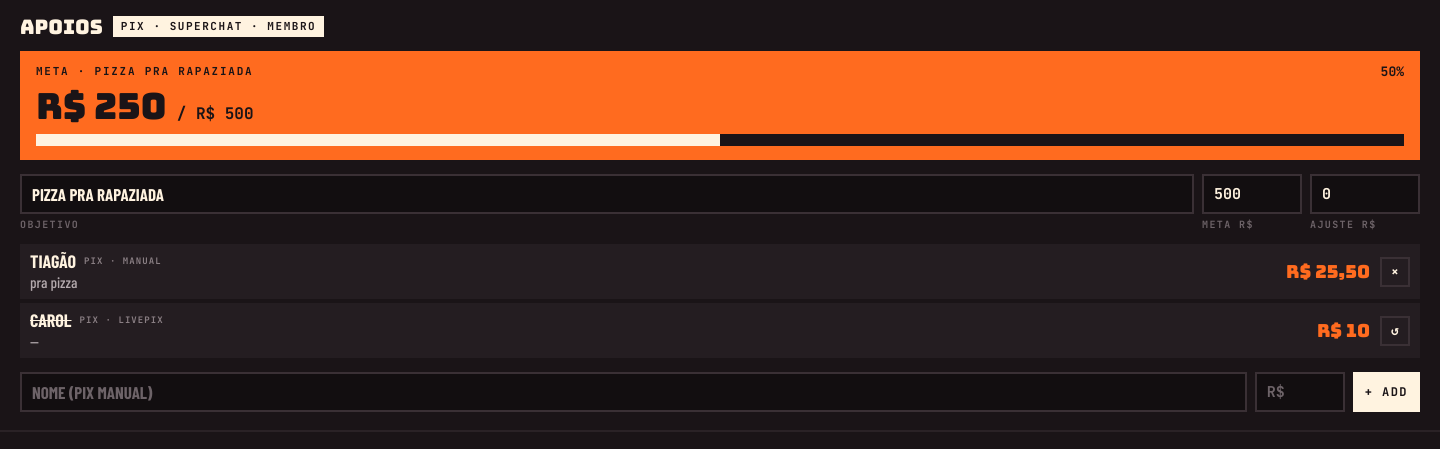
Test: ColunaPix › apagar ou zerar a META não grava; ao sair do campo volta o último valor válido
Replace the text in the field named "META R$" with "0": (1252, 194) [1202,174,1302,214]
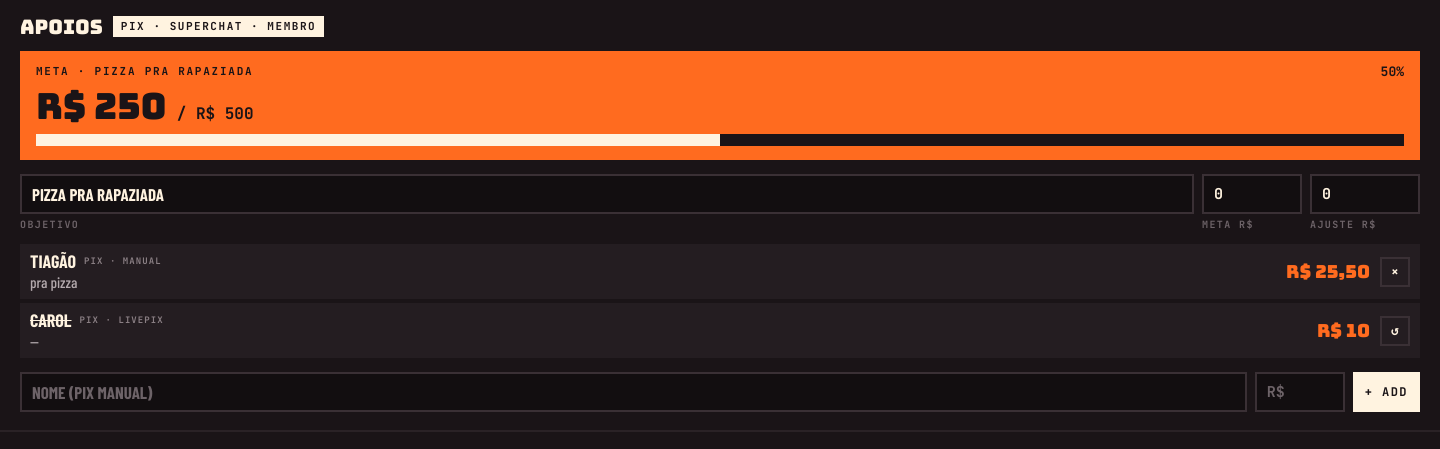
Replace the text in the field named "META R$" with "abc": (1252, 194) [1202,174,1302,214]
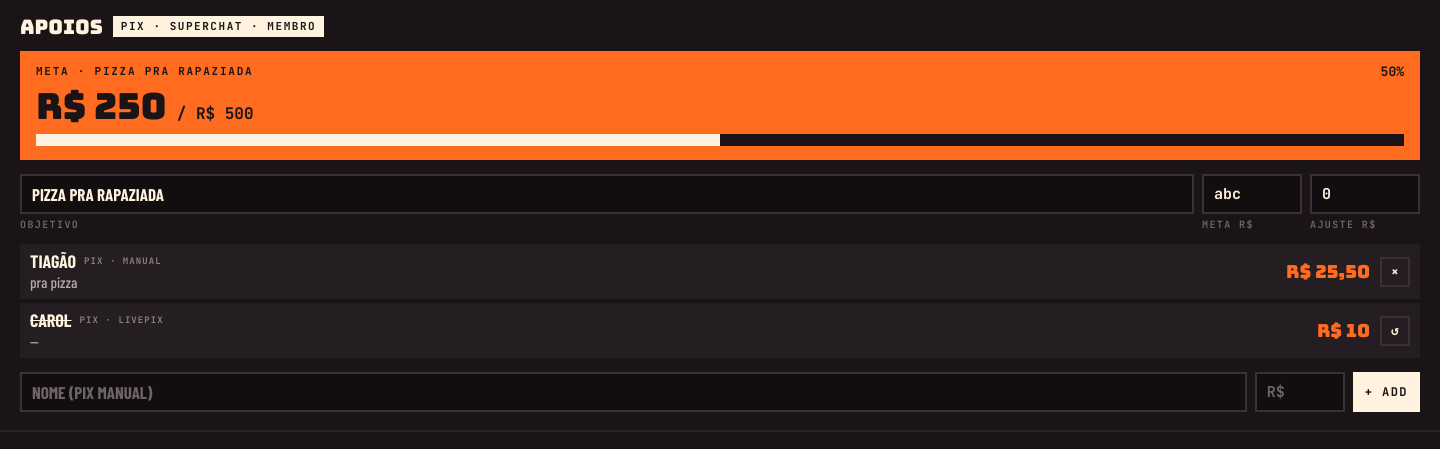
Replace the text in the field named "META R$" with "750,5": (1252, 194) [1202,174,1302,214]
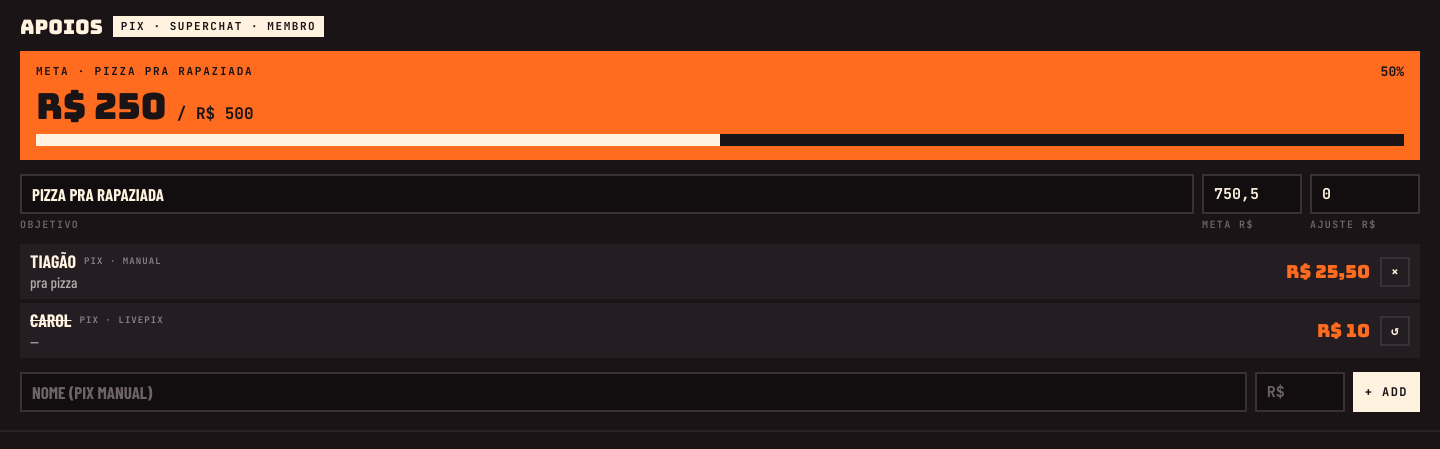
Clear the field named "META R$": (1252, 194) [1202,174,1302,214]
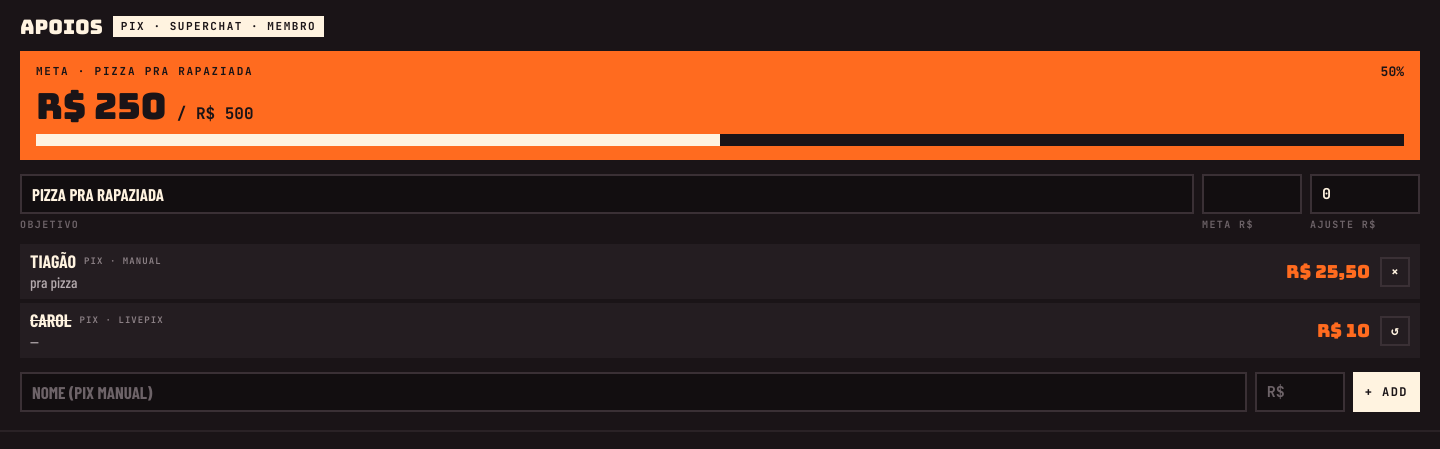
Leave the field named "META R$", box [1202,174,1302,214]
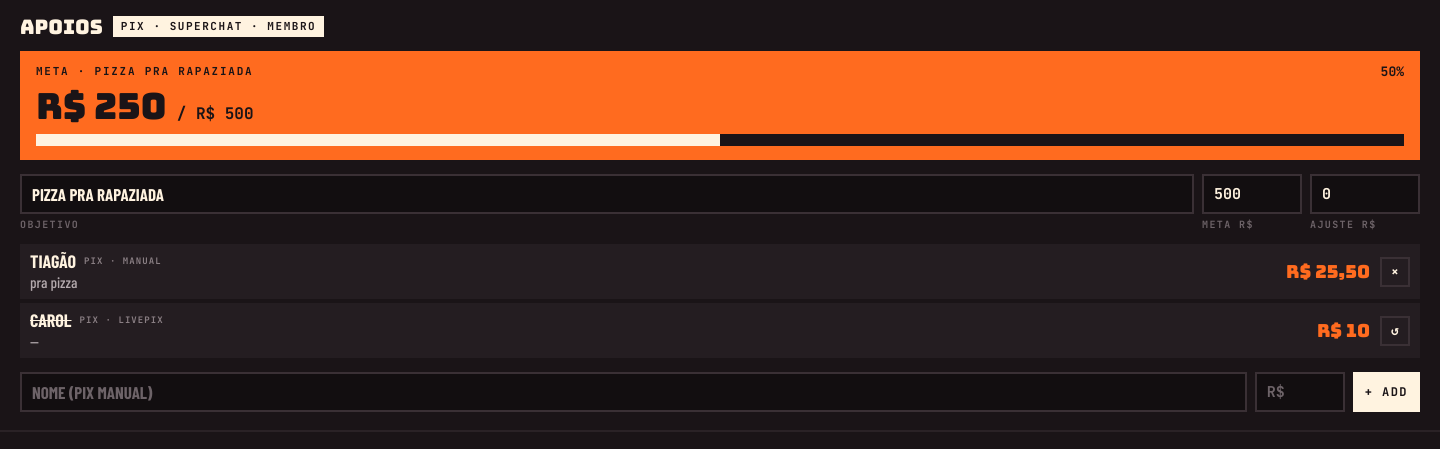
Check: the field named "META R$" holds "500", box [1202,174,1302,214]
